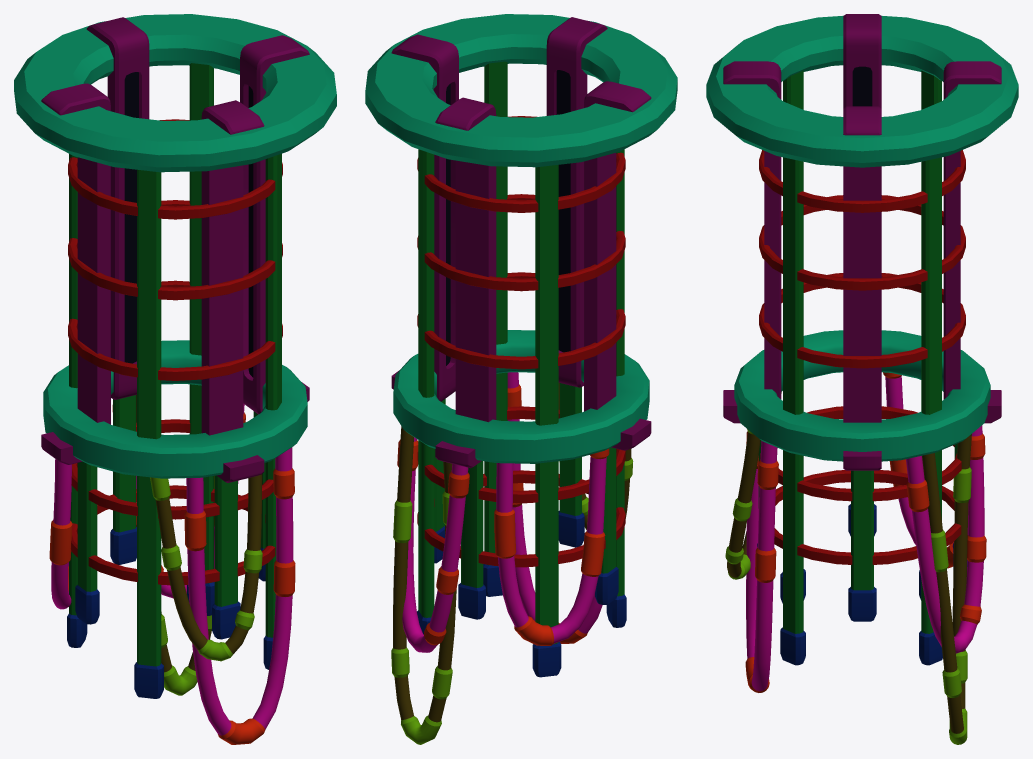
The model's file is OBJ_Tunnel.fbx.
3 renders of one model, left to right at view 1: azimuth 30°, elevation 25°; view 2: azimuth 150°, elevation 25°; view 3: azimuth 270°, elevation 25°, orthographic. The views are drawn at different scales.
Parts seen in each view (by area): view 1: Box005; view 2: Box005; view 3: Box005.
Boxes of the visible parts, bbox=[...] form: Box005: bbox=[14, 14, 336, 744]; Box005: bbox=[365, 14, 677, 744]; Box005: bbox=[706, 14, 1018, 744].
Size of the model in its own units: 34.07 by 78.26 by 34.07.
